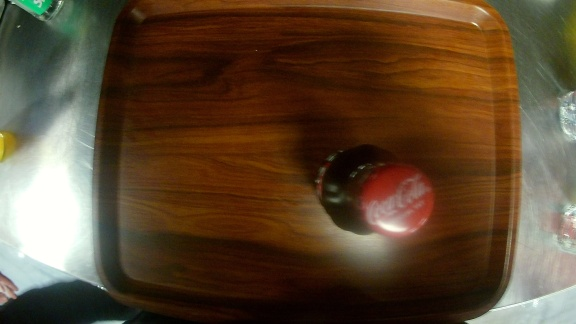camkola: (307, 137, 439, 241)
